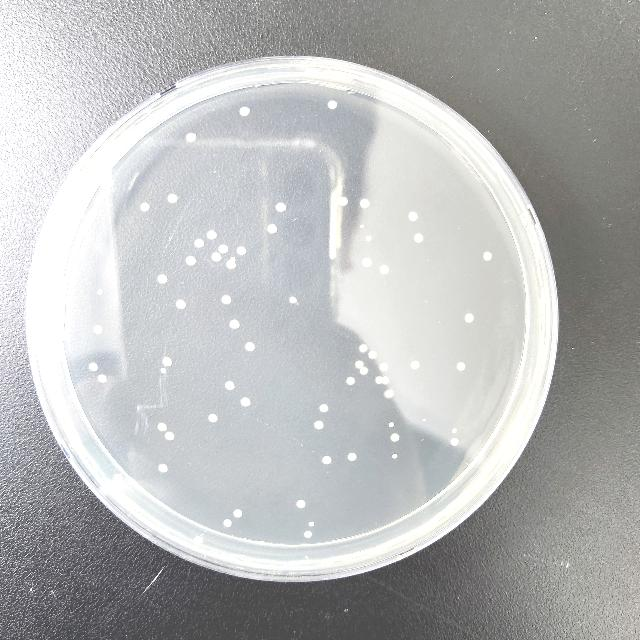colony: (162, 356, 172, 366), (212, 252, 222, 262), (328, 100, 338, 110), (237, 245, 247, 255), (140, 202, 150, 212), (276, 202, 286, 212), (322, 455, 332, 465), (225, 380, 235, 390), (241, 396, 251, 406), (360, 198, 370, 208), (410, 360, 420, 370), (158, 463, 168, 473), (362, 257, 372, 267), (408, 211, 418, 221), (268, 223, 278, 233), (194, 238, 204, 248), (165, 430, 175, 440), (338, 196, 348, 206), (240, 106, 250, 116), (176, 299, 186, 309), (230, 319, 240, 329), (314, 420, 324, 430), (207, 230, 217, 240), (186, 255, 196, 265), (390, 432, 400, 442), (186, 132, 196, 142), (368, 350, 378, 360), (158, 274, 168, 284), (414, 233, 424, 243), (157, 421, 167, 431), (464, 313, 474, 323), (222, 294, 232, 304), (245, 341, 255, 351), (168, 193, 178, 203), (62, 332, 72, 341), (319, 403, 329, 412), (347, 452, 357, 461), (384, 389, 394, 398), (98, 373, 108, 382), (208, 413, 218, 422), (218, 244, 228, 253), (296, 499, 306, 508), (89, 362, 98, 372), (379, 264, 388, 274), (456, 362, 466, 371), (379, 362, 388, 372), (115, 473, 124, 482), (56, 274, 64, 284), (450, 437, 460, 445), (94, 324, 102, 334), (234, 508, 242, 518), (346, 377, 356, 385), (194, 536, 203, 544), (483, 252, 492, 260), (227, 260, 236, 268), (359, 343, 367, 352), (355, 359, 363, 368), (359, 367, 368, 375), (304, 530, 312, 538), (223, 519, 231, 527), (382, 376, 390, 384), (290, 296, 296, 304), (376, 376, 382, 384), (388, 422, 394, 428), (366, 235, 372, 241), (98, 290, 104, 294), (452, 428, 458, 432), (230, 258, 236, 262), (308, 522, 314, 526), (161, 368, 167, 372), (392, 454, 398, 458), (360, 225, 364, 229), (422, 418, 426, 420)
